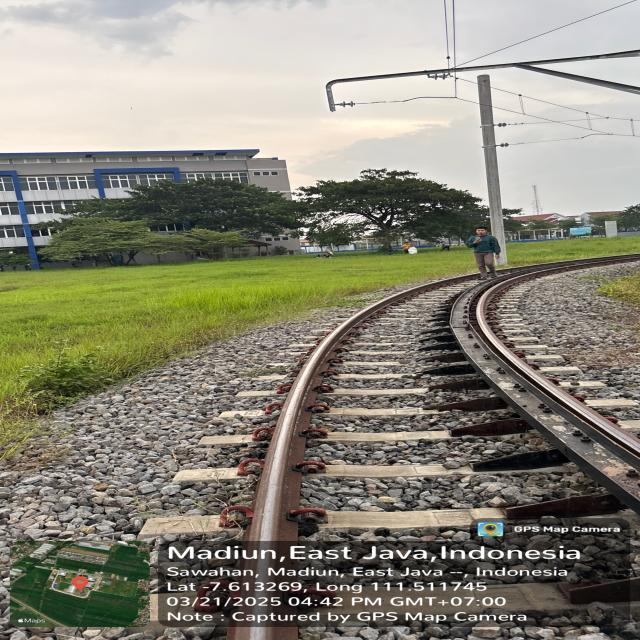rail-detection: (229, 291, 410, 640), (448, 255, 640, 515), (310, 291, 412, 366)
